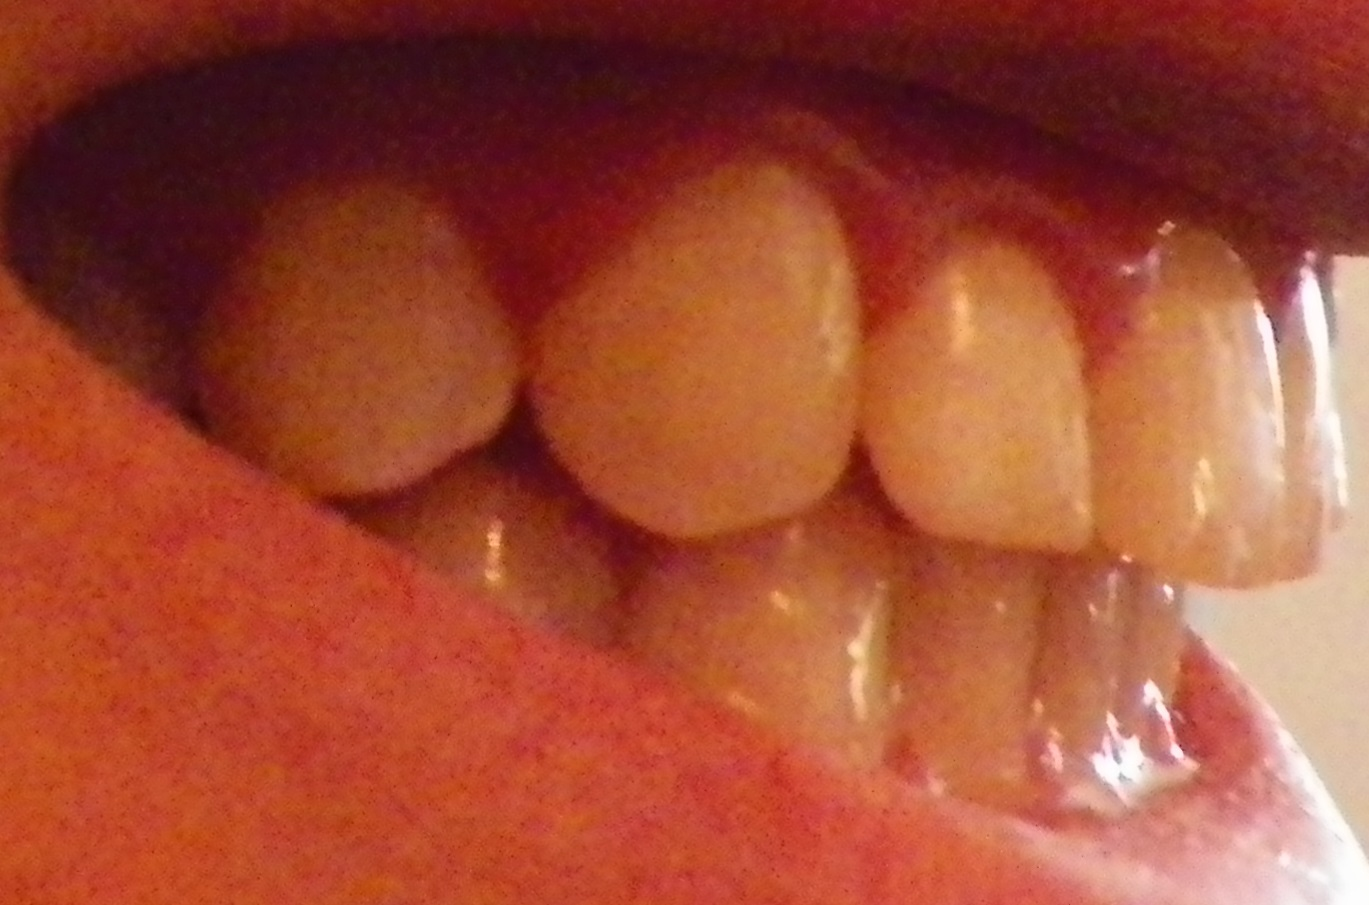boca: (61, 157, 1344, 810)
